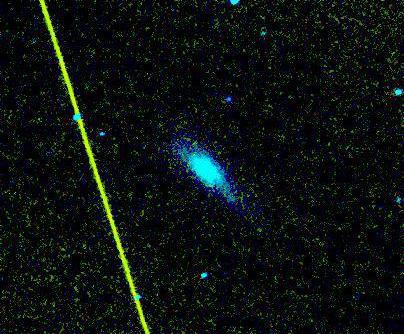star: (90, 201, 120, 231)
